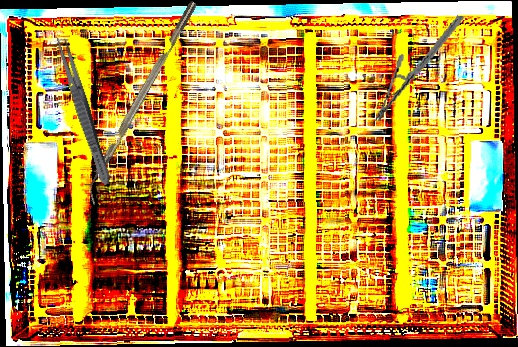Chopper: (77, 0, 208, 206)
Dressing Forceps: (51, 33, 115, 187)
Needle Holder: (373, 4, 465, 133)
